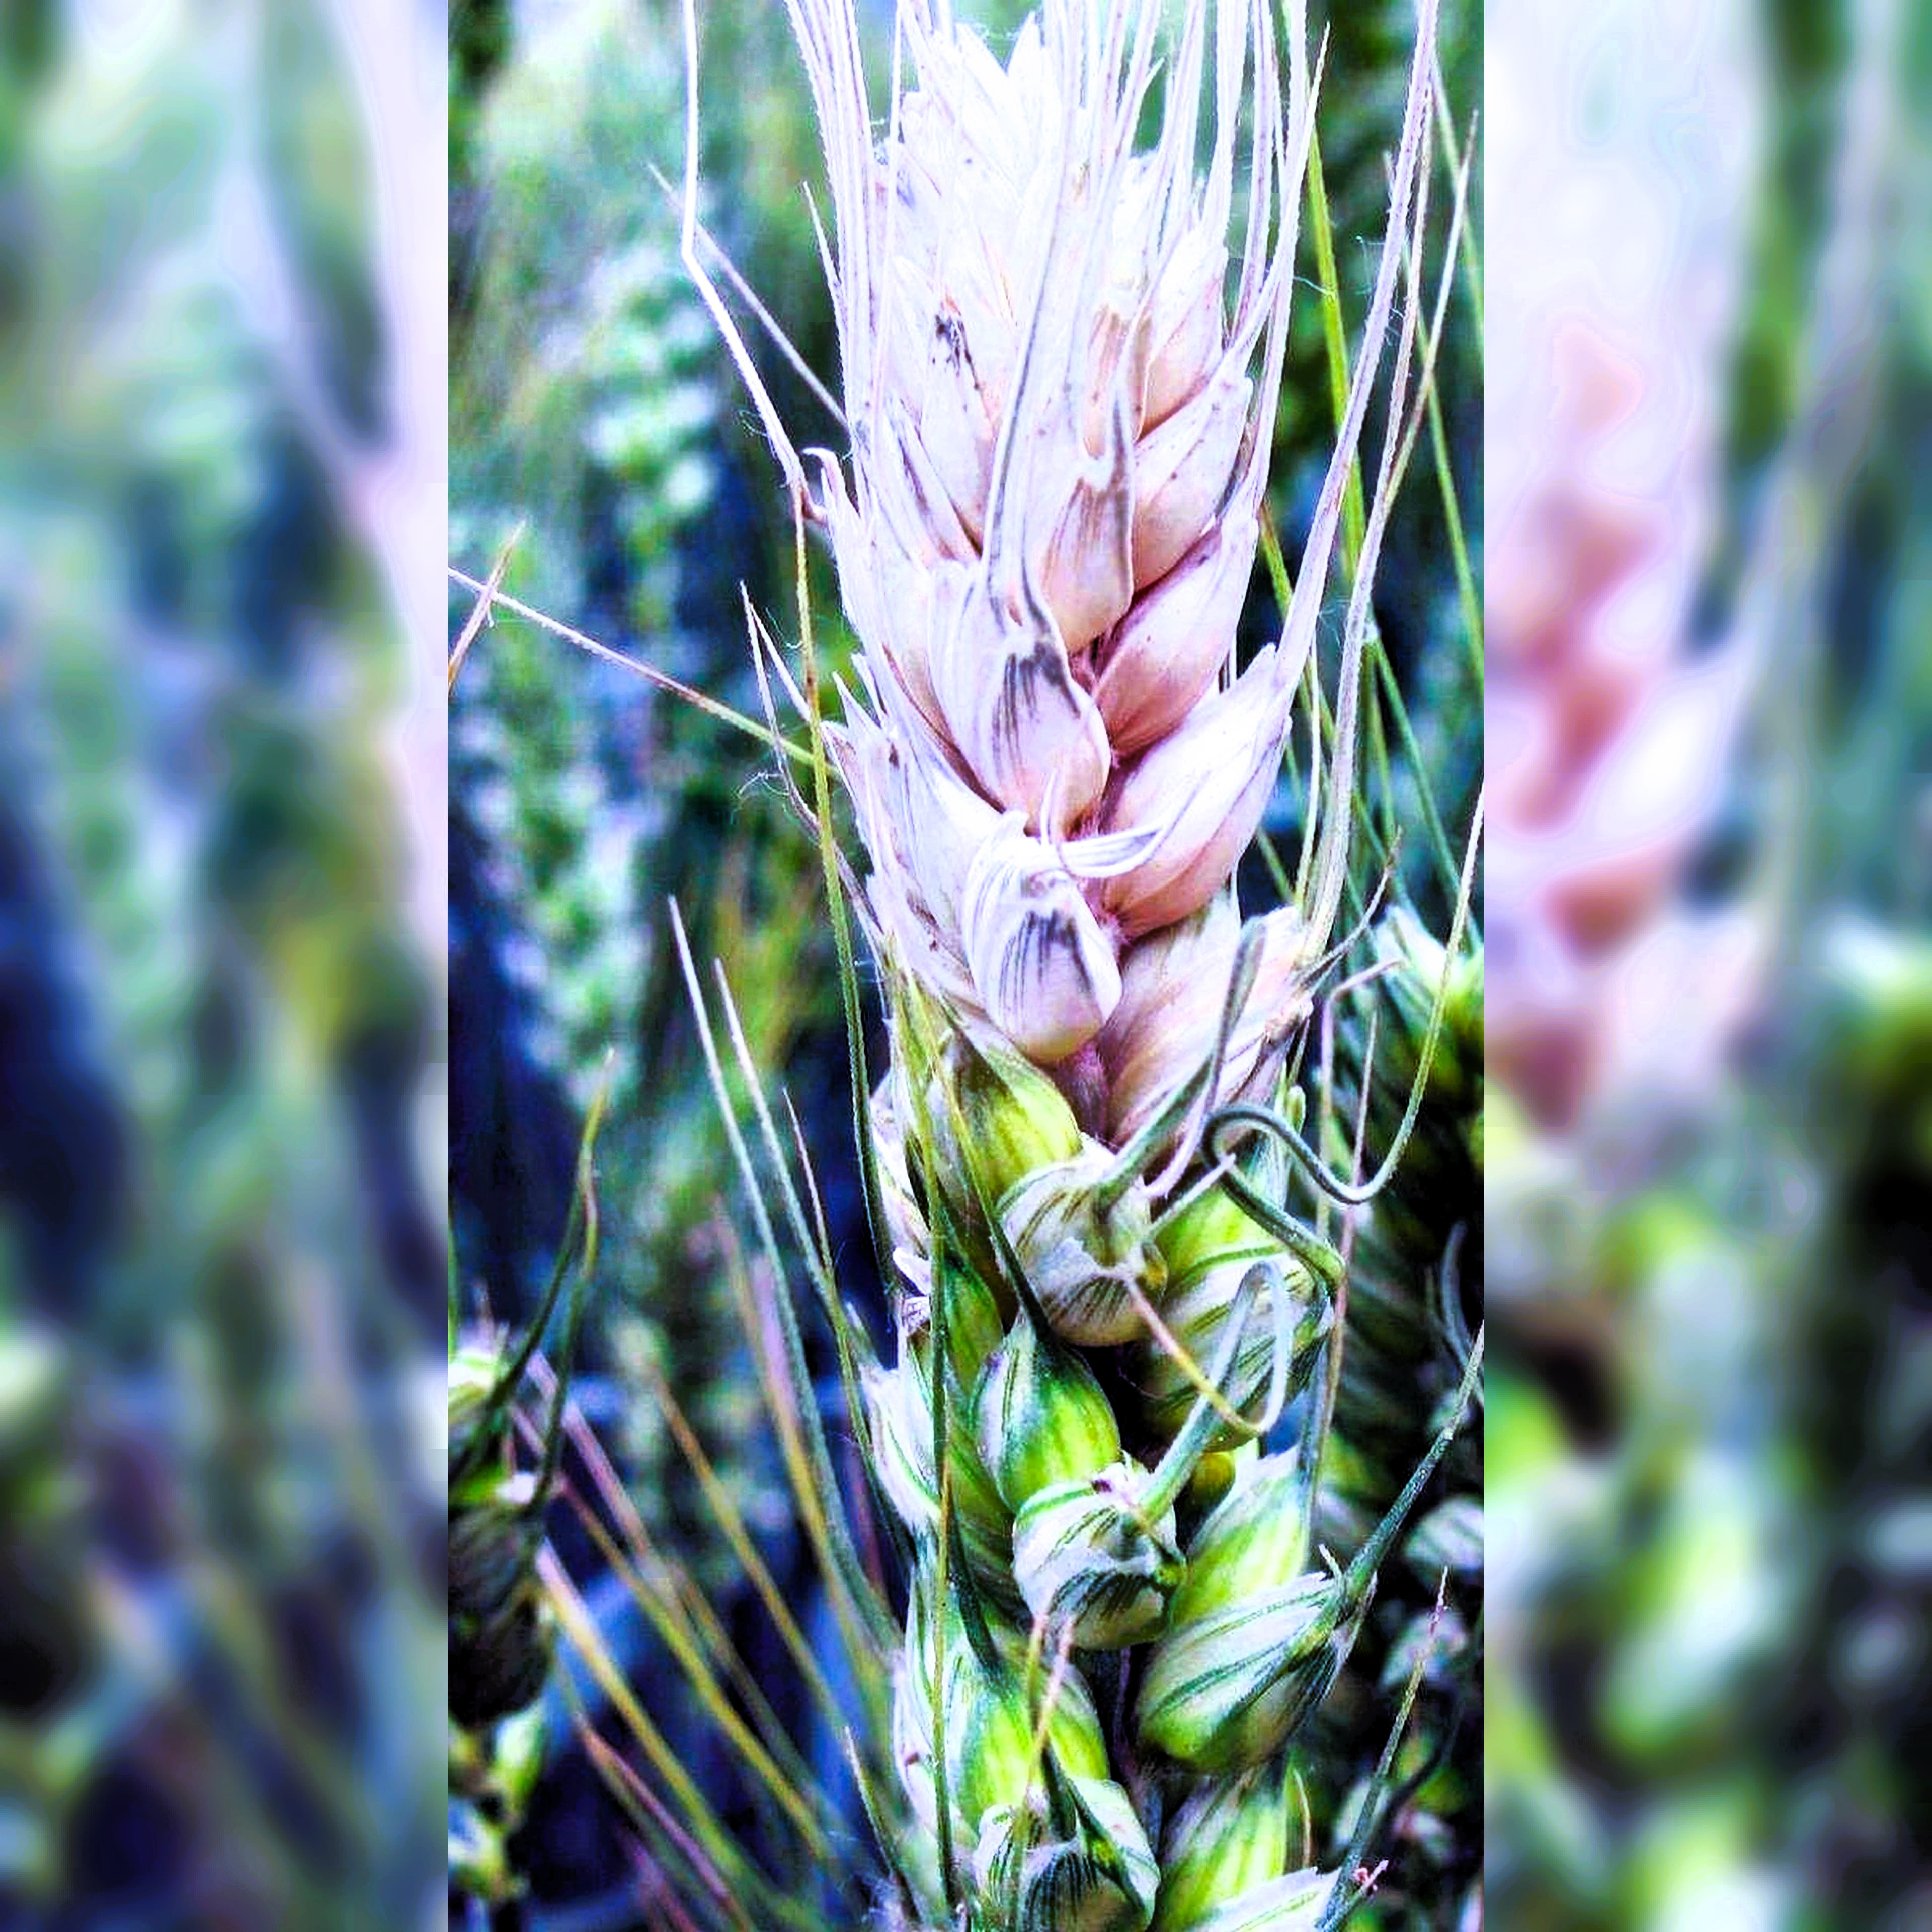Wheat scab: (803, 99, 1371, 1545)
